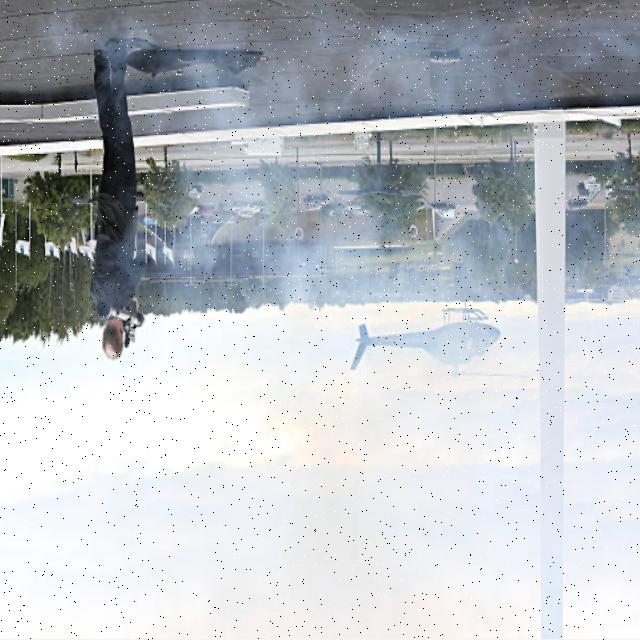bazooka: (97, 290, 158, 335)
